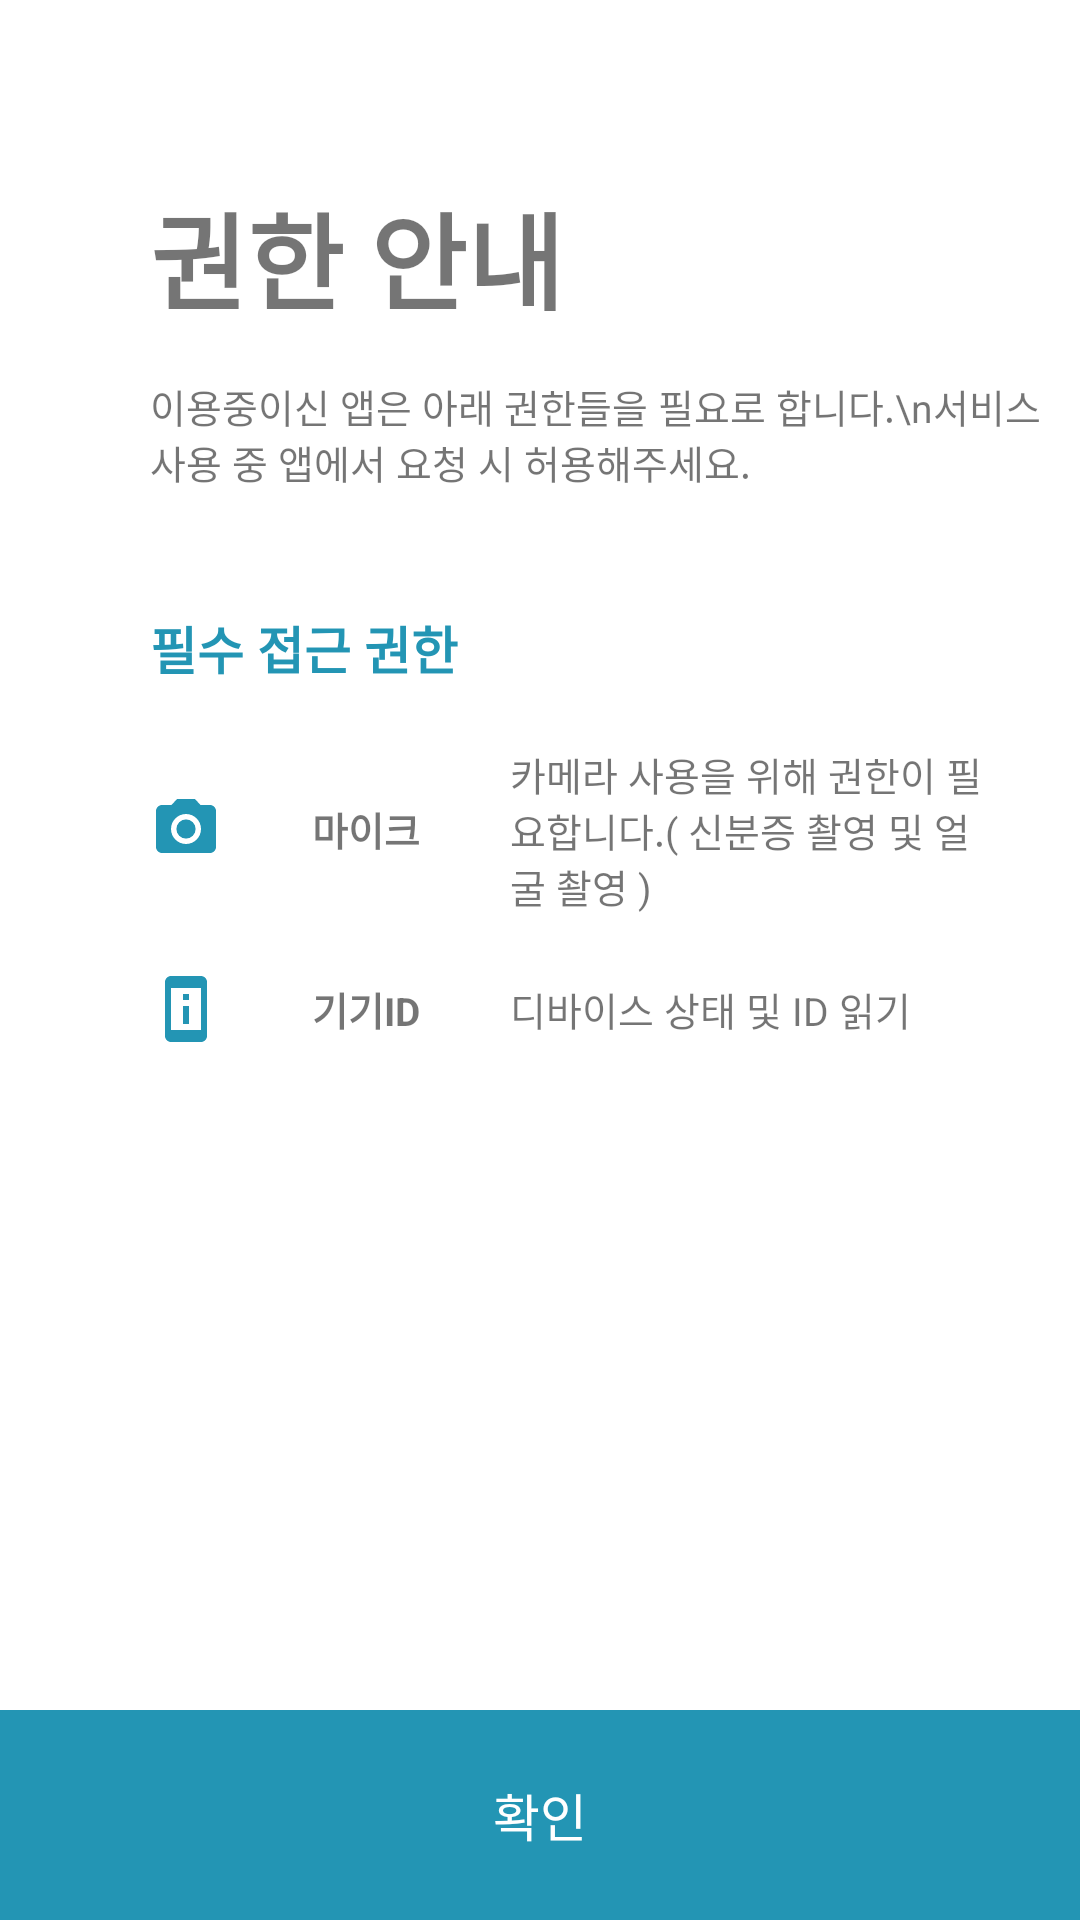

Icons on this 1080 x 1920 Android screen, each with the point to tap as point (x, y):
perm device information: point (186, 1009)
photo camera: point (186, 826)
